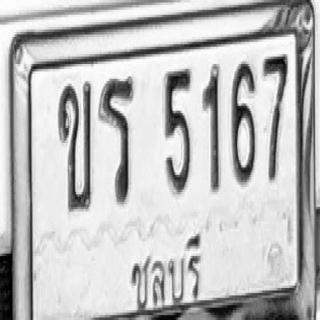A02: (58, 80, 92, 210)
A35: (98, 75, 134, 203)
N01: (202, 62, 220, 192)
N05: (164, 66, 191, 195)
N06: (231, 60, 256, 183)
N07: (262, 53, 288, 181)
P13: (124, 222, 211, 320)
